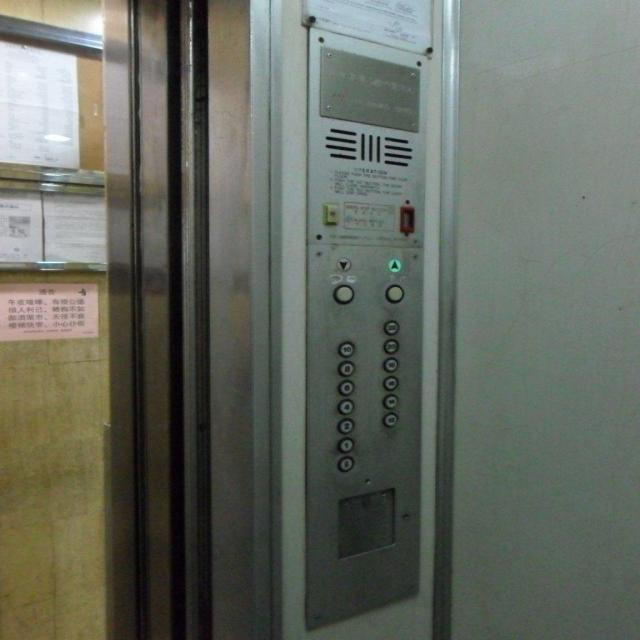1: (336, 437, 354, 452)
10: (337, 340, 354, 358)
14: (381, 393, 397, 409)
16: (382, 375, 398, 391)
18: (382, 356, 398, 372)
2: (337, 418, 353, 434)
20: (382, 338, 398, 353)
22: (382, 320, 398, 334)
4: (336, 397, 354, 415)
6: (336, 378, 352, 394)
8: (337, 359, 354, 376)
blur: (382, 410, 398, 426), (336, 456, 353, 471)
down: (337, 257, 351, 271)
empty: (331, 284, 353, 304), (384, 284, 404, 303)
up: (387, 258, 401, 273)
